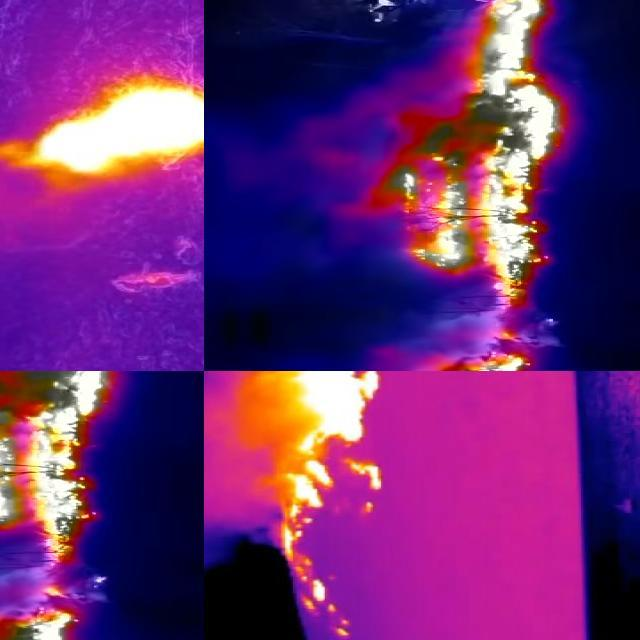fire: (366, 1, 562, 308), (237, 372, 379, 639), (1, 372, 114, 564), (15, 84, 205, 178), (401, 322, 534, 372), (1, 580, 92, 640)
